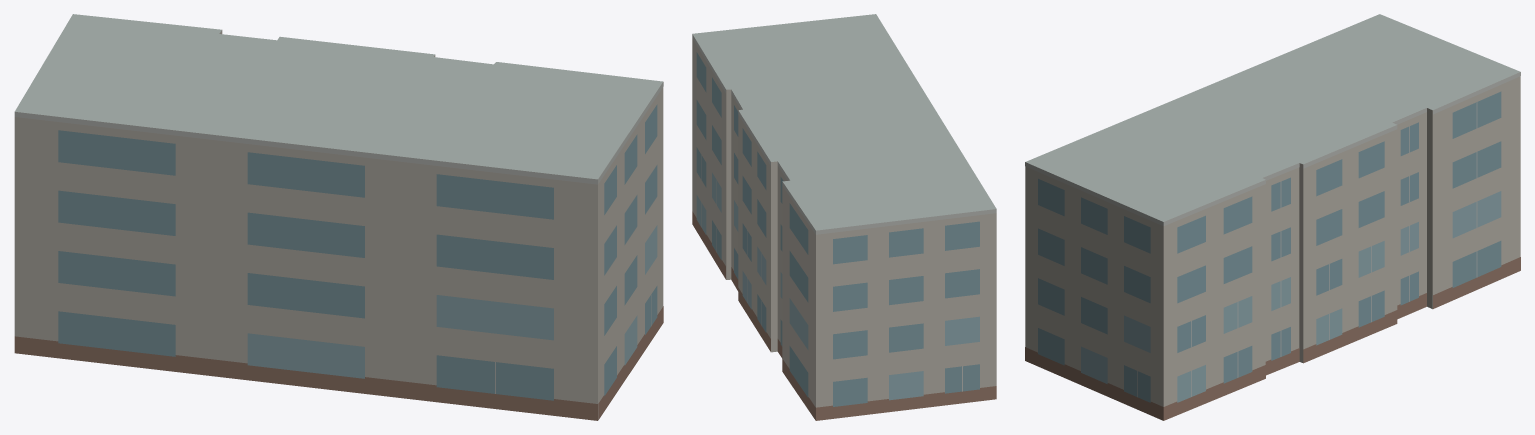
The model's file is survey-upis-32663892.glb.
3 views of the same model, side by side, from view 1: azimuth 30°, elevation 25°; view 2: azimuth 150°, elevation 25°; view 3: azimuth 270°, elevation 25° (orthographic). The views are drawn at different scales.
Visible parts, largest first — view 1: survey-upis-32663892.tmp; view 2: survey-upis-32663892.tmp; view 3: survey-upis-32663892.tmp.
Boxes of the visible parts, x1=… form: survey-upis-32663892.tmp: x1=14, y1=14, x2=663, y2=420; survey-upis-32663892.tmp: x1=692, y1=14, x2=996, y2=420; survey-upis-32663892.tmp: x1=1025, y1=14, x2=1520, y2=420.
Bounding box in the file's own units: 25.36 × 11.3 × 25.53.
